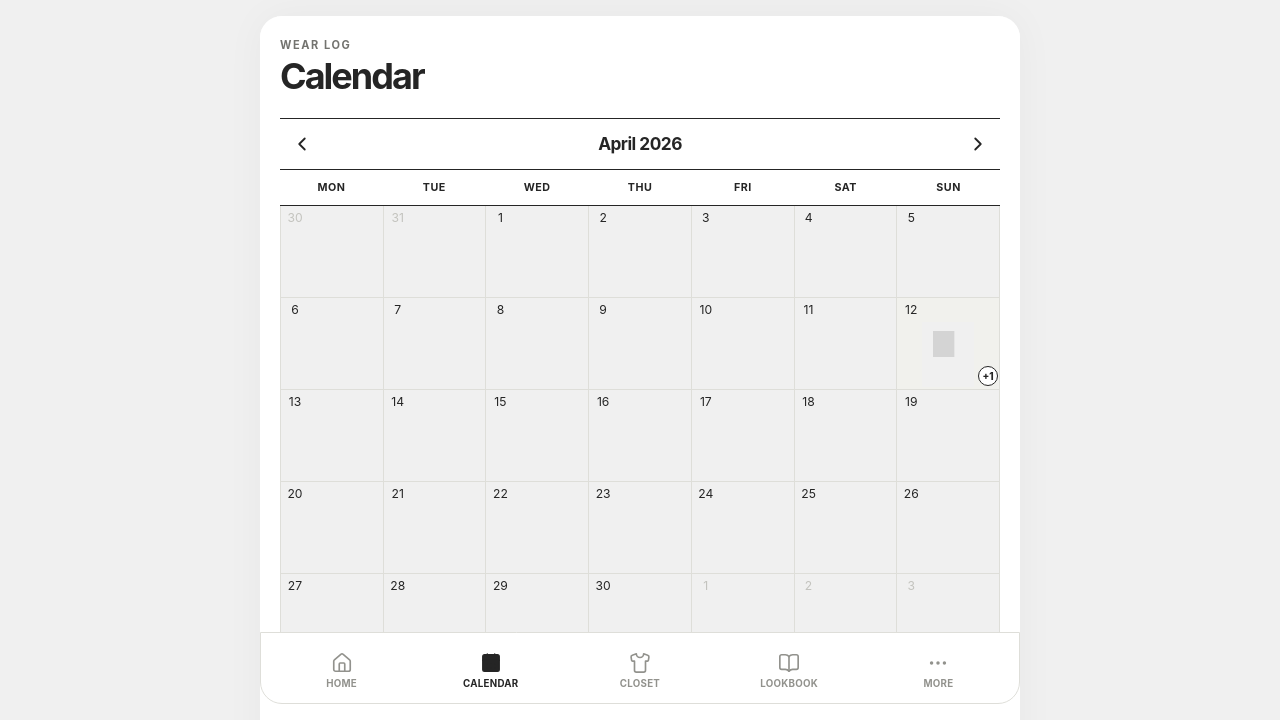
Test: Phase 3.5 Calendar › opens an English chooser sheet only when a date has multiple Outfits
Click the button named "Choose from 2 outfits for Sunday, April 12, 2026".
click(948, 354)  # box top-left (897, 322), bottom-right (999, 387)
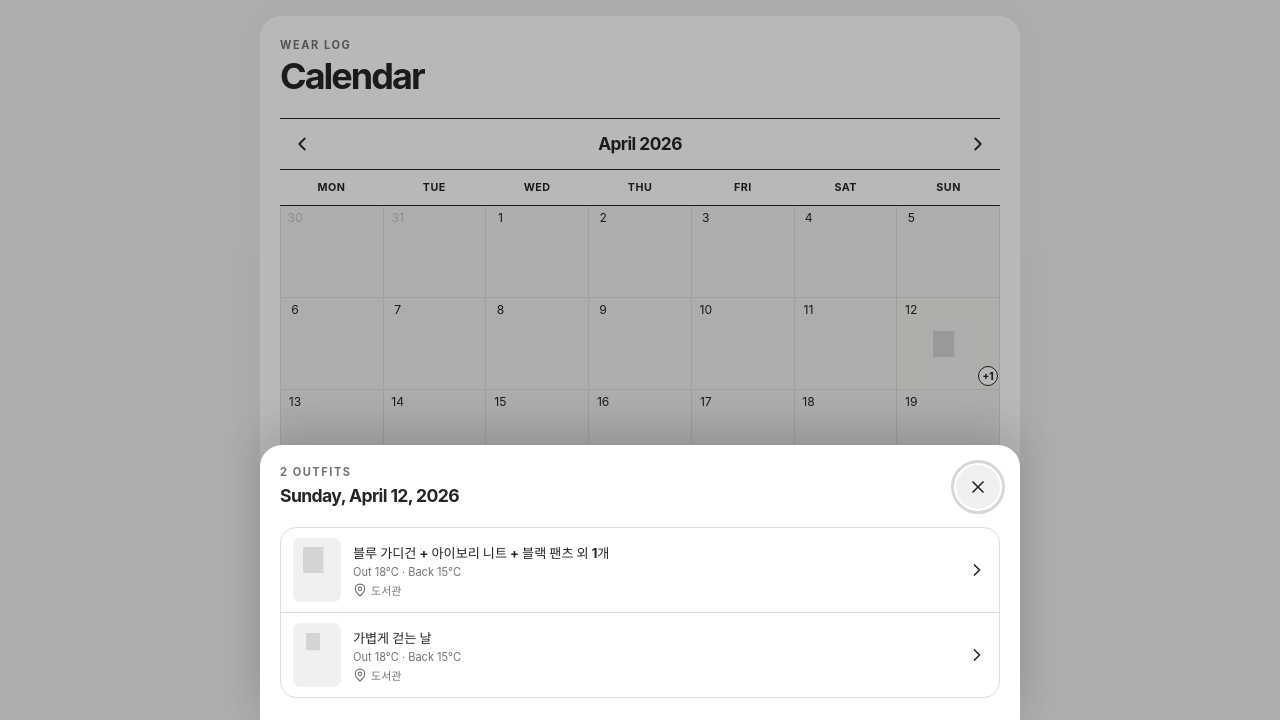
Expected: the text "2 OUTFITS" is shown, top-left (280, 465), bottom-right (352, 479)
Press Escape
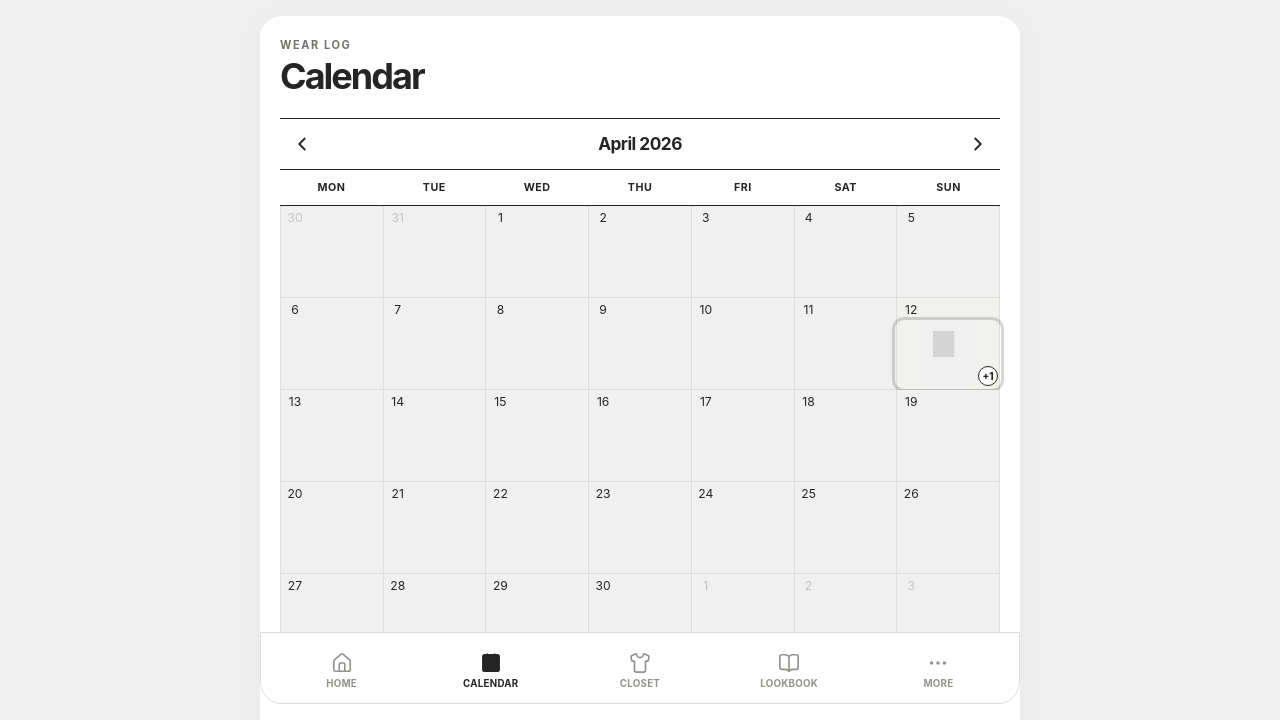
Expected: the dialog is gone
